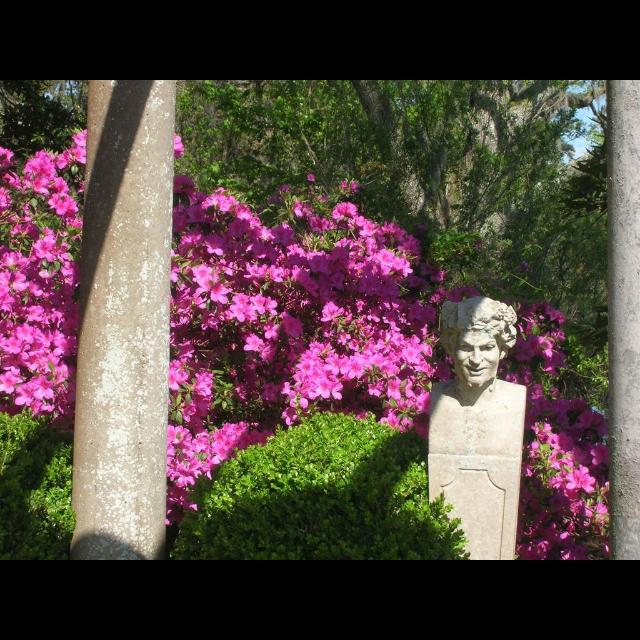Flower: (0, 130, 608, 558), (536, 350, 572, 380)
